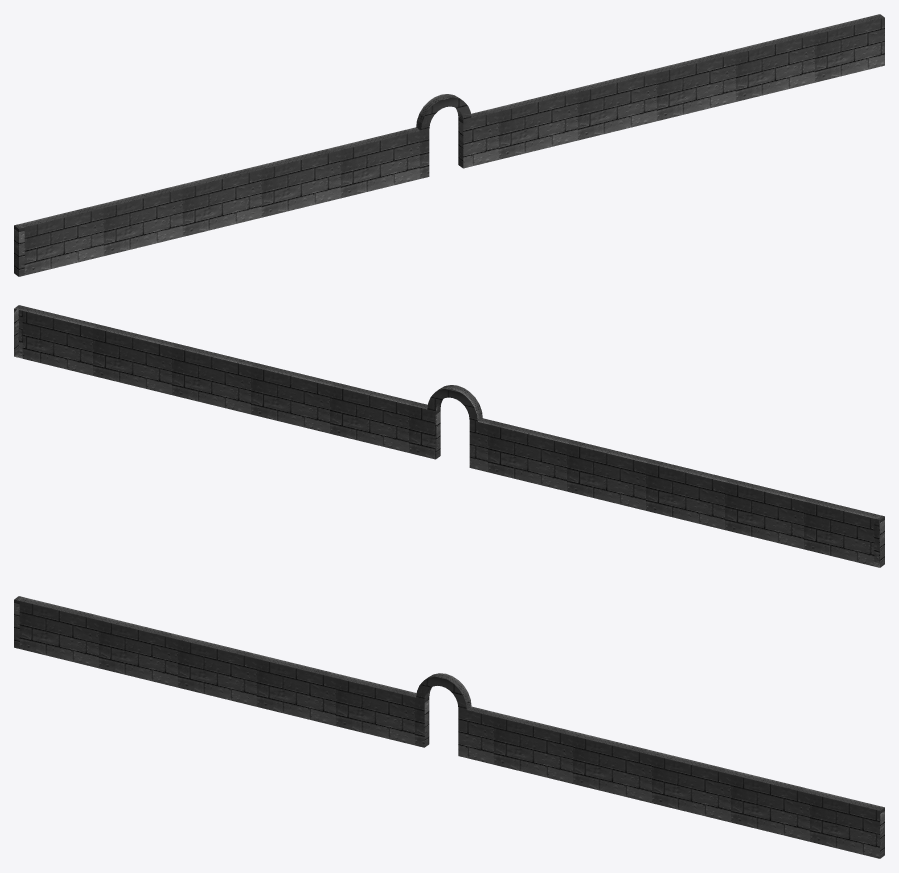
The model's file is Salida.obj.
The picture shows the model from 3 angles, top to bottom: view 1: azimuth 30°, elevation 25°; view 2: azimuth 150°, elevation 25°; view 3: azimuth 330°, elevation 25°; orthographic projection.
Parts seen in each view (by area): view 1: Salida; view 2: Salida; view 3: Salida.
Part boxes in pixels (x1=…): Salida: x1=14, y1=14, x2=884, y2=276; Salida: x1=14, y1=305, x2=884, y2=567; Salida: x1=14, y1=596, x2=884, y2=858.
Size of the model in its own units: 302 by 24.82 by 2.97.
Materials: 1 (1 with a texture image).
